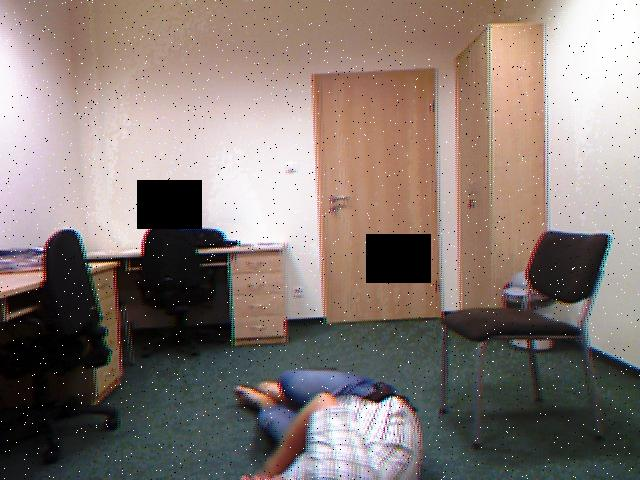fall: (235, 370, 422, 479)
